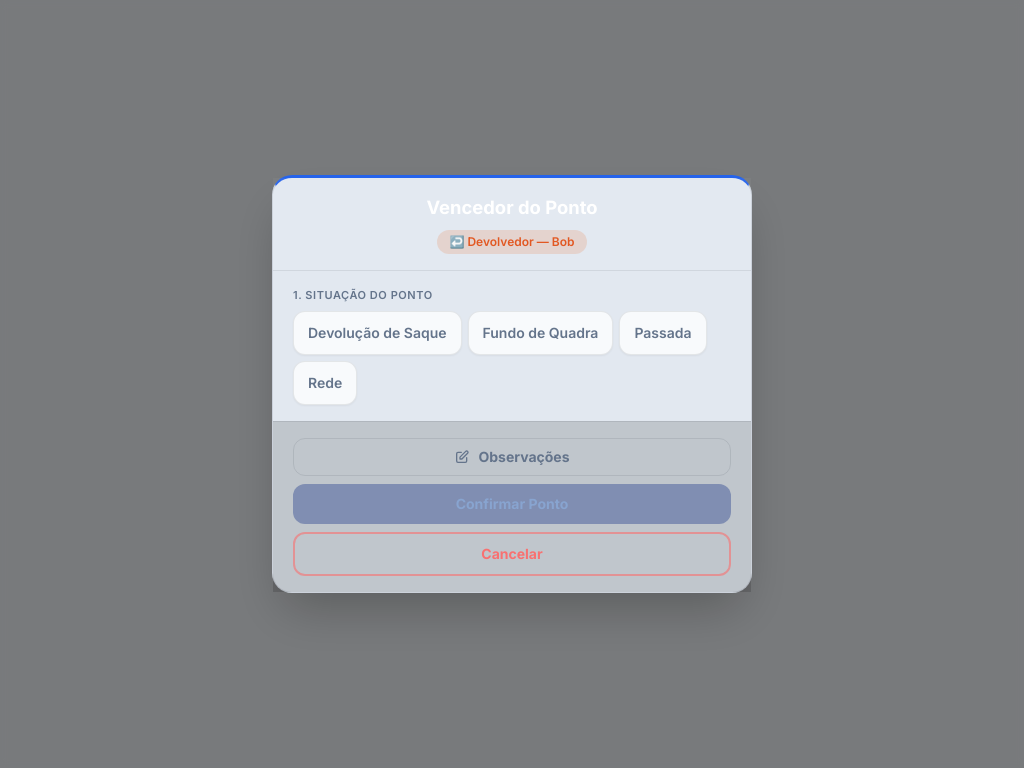
Scenario: PointDetailsModal — Characterization Tests › Situacao selection flow › shows Tipo section after selecting situacao
Expected: the text "1. Situação do Ponto" is shown, [293,288,433,302]
Click the button "Devolução de Saque" at (377, 333), box [293,311,462,355]
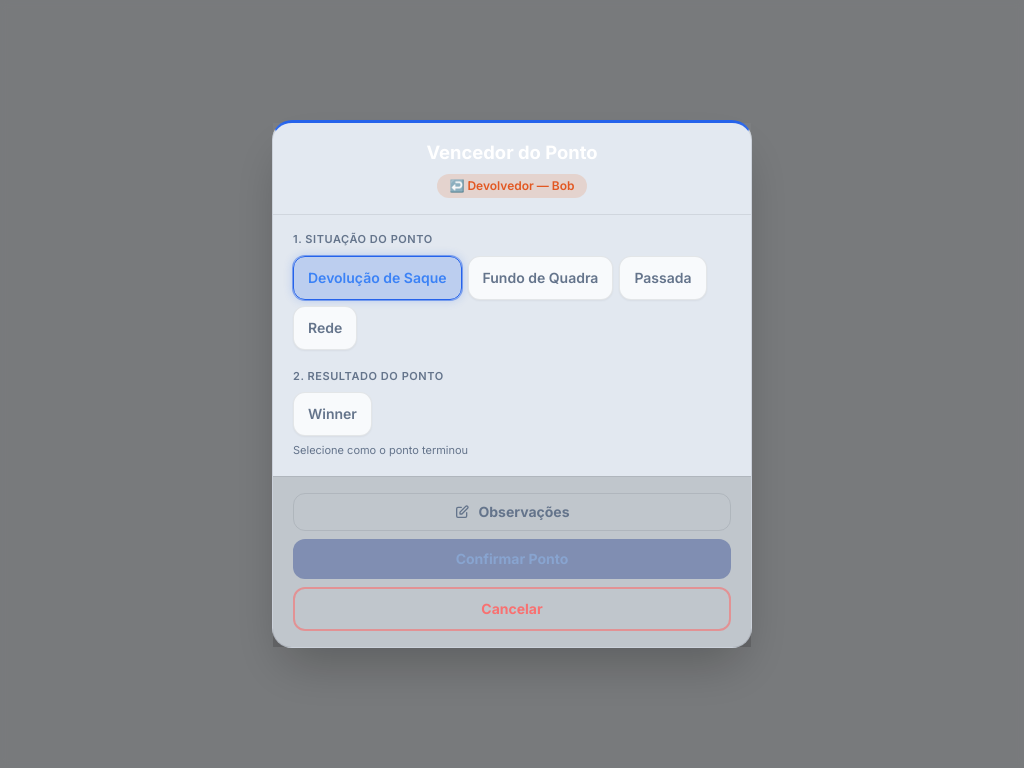
Result: the text "2. Resultado do Ponto" is shown at [293,369,444,383]
